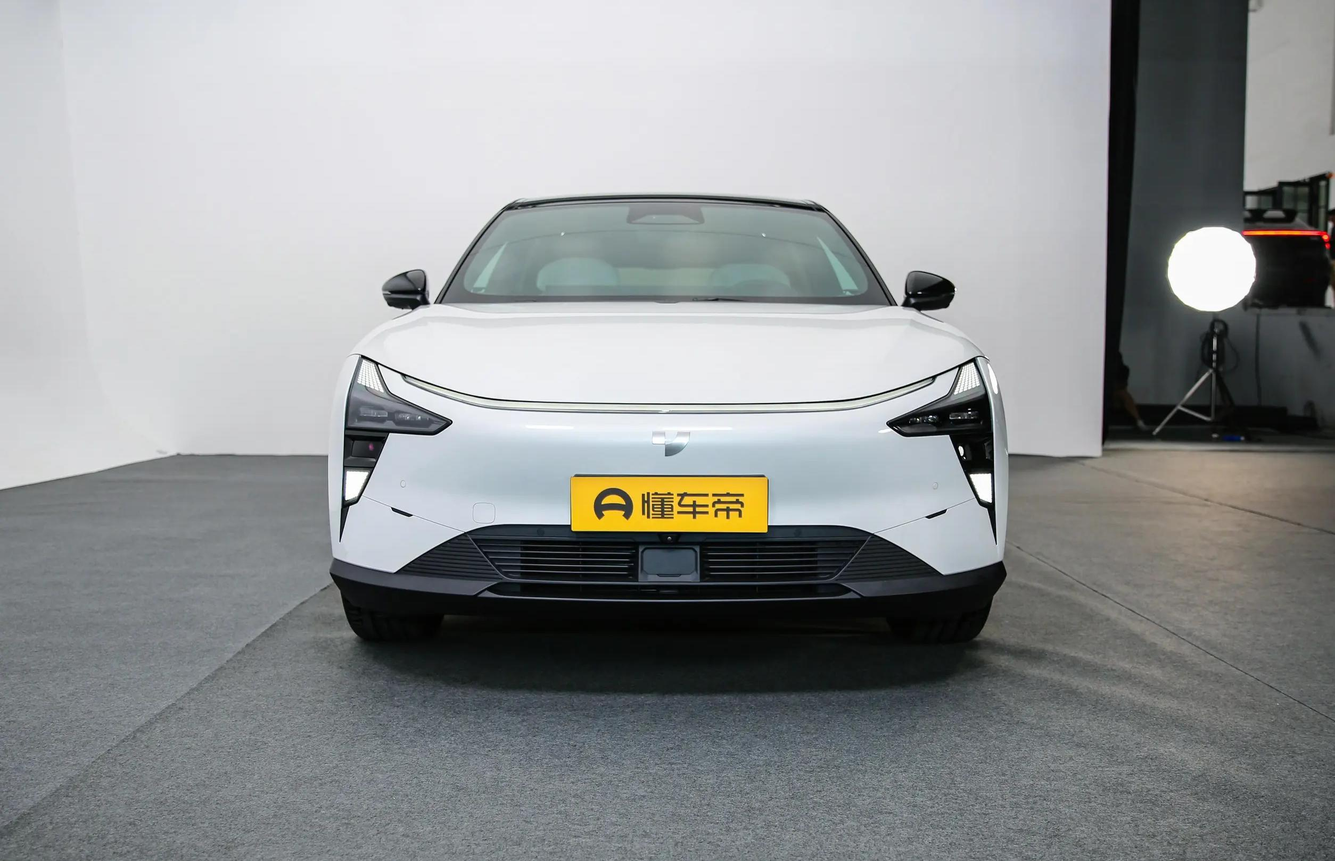JIYUE: (651, 428, 691, 457)
